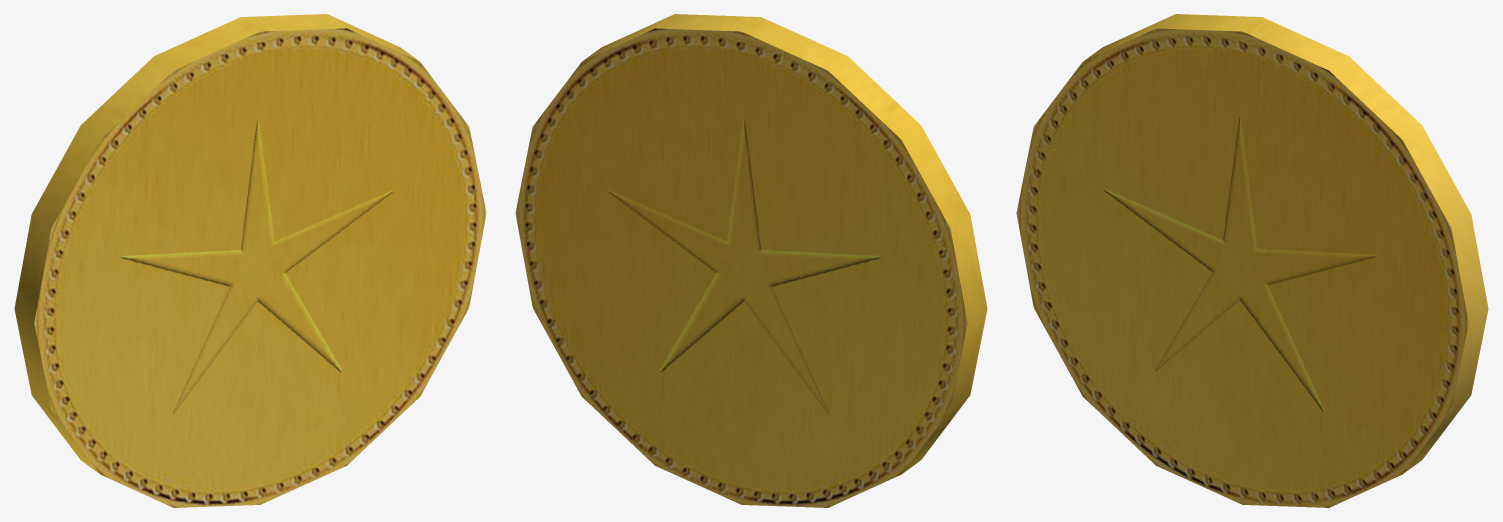
The model's file is coin.obj.
3 renders of one model, left to right at view 1: azimuth 30°, elevation 25°; view 2: azimuth 150°, elevation 25°; view 3: azimuth 330°, elevation 25°, orthographic.
Parts seen in each view (by area): view 1: Cylinder; view 2: Cylinder; view 3: Cylinder.
Boxes of the visible parts, x1,y1,x2,y2 form: Cylinder: (14, 14, 486, 507); Cylinder: (515, 14, 987, 507); Cylinder: (1016, 14, 1488, 507).
Bounding box in the file's own units: 39.65 × 39.65 × 3.
